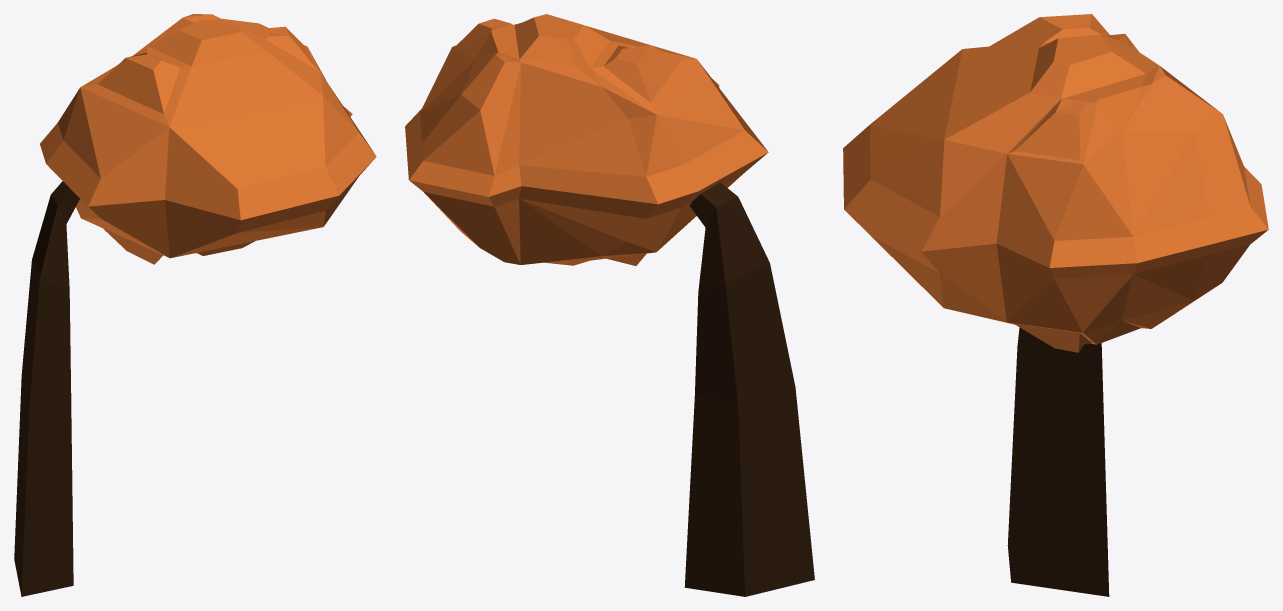
The model's file is WalnutNode.fbx.
3 renders of one model, left to right at view 1: azimuth 30°, elevation 25°; view 2: azimuth 150°, elevation 25°; view 3: azimuth 270°, elevation 25°, orthographic. The views are drawn at different scales.
Visible parts, largest first — view 1: Walnut, Stem; view 2: Walnut, Stem; view 3: Walnut, Stem.
Part boxes in pixels (x1=…): Walnut: x1=40, y1=14, x2=376, y2=264; Stem: x1=14, y1=181, x2=80, y2=596; Walnut: x1=405, y1=14, x2=768, y2=265; Stem: x1=684, y1=182, x2=814, y2=596; Walnut: x1=843, y1=14, x2=1268, y2=352; Stem: x1=1007, y1=327, x2=1109, y2=596.
Size of the model in its own units: 82.39 by 112 by 68.22.
